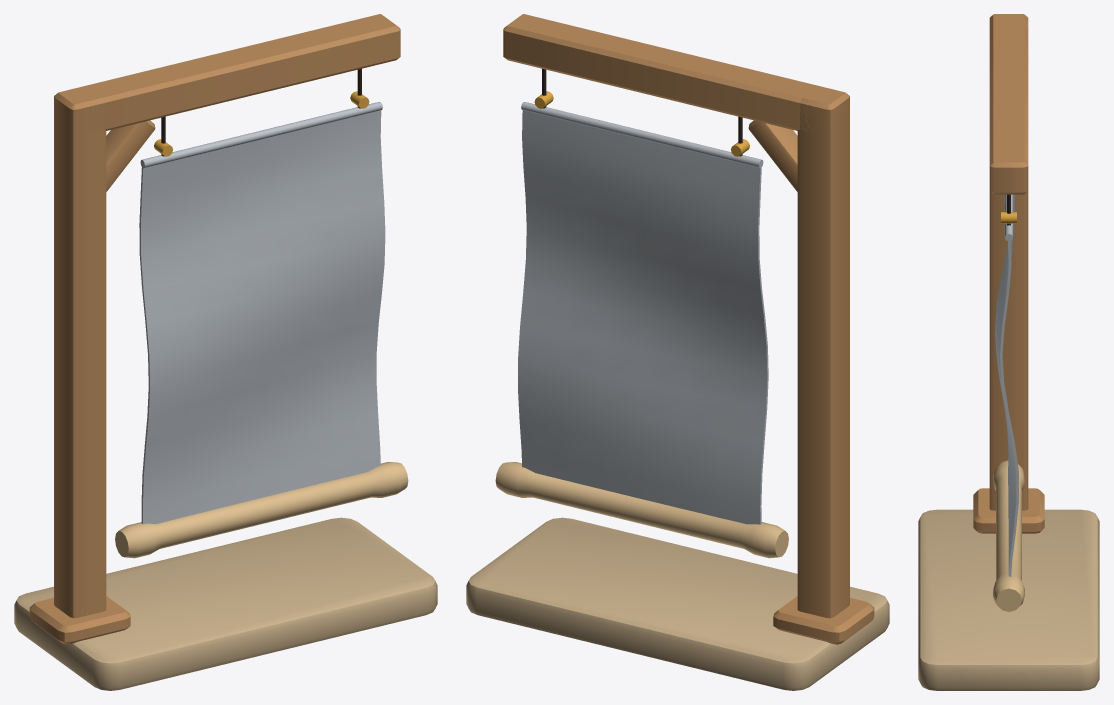
File: thunder_sheet.glb
3 views of the same model, side by side, from view 1: azimuth 30°, elevation 25°; view 2: azimuth 150°, elevation 25°; view 3: azimuth 270°, elevation 25° (orthographic). The views are drawn at different scales.
Parts seen in each view (by area): view 1: Sheet, Frame, Handle; view 2: Sheet, Frame, Handle; view 3: Frame, Handle, Sheet.
Part boxes in pixels (x1,y1,x2,y2): Sheet: [139, 102, 385, 524]; Frame: [14, 14, 437, 690]; Handle: [115, 462, 408, 558]; Sheet: [518, 102, 768, 524]; Frame: [466, 14, 889, 690]; Handle: [495, 462, 788, 558]; Frame: [918, 14, 1099, 690]; Handle: [993, 460, 1024, 611]; Sheet: [995, 194, 1018, 576].
Bounding box in the file's own units: 0.12 × 0.18 × 0.056.
